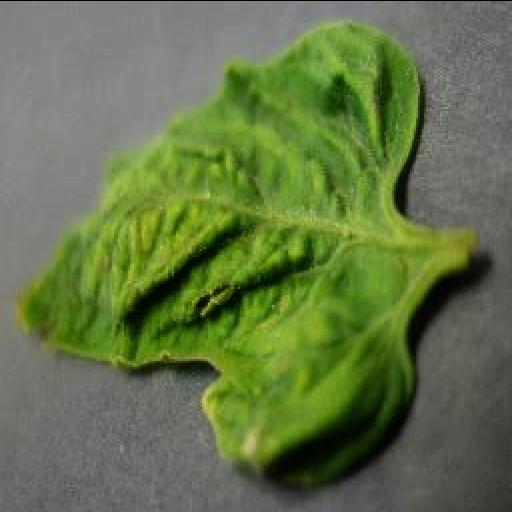disease_tomato: (18, 16, 424, 492)
